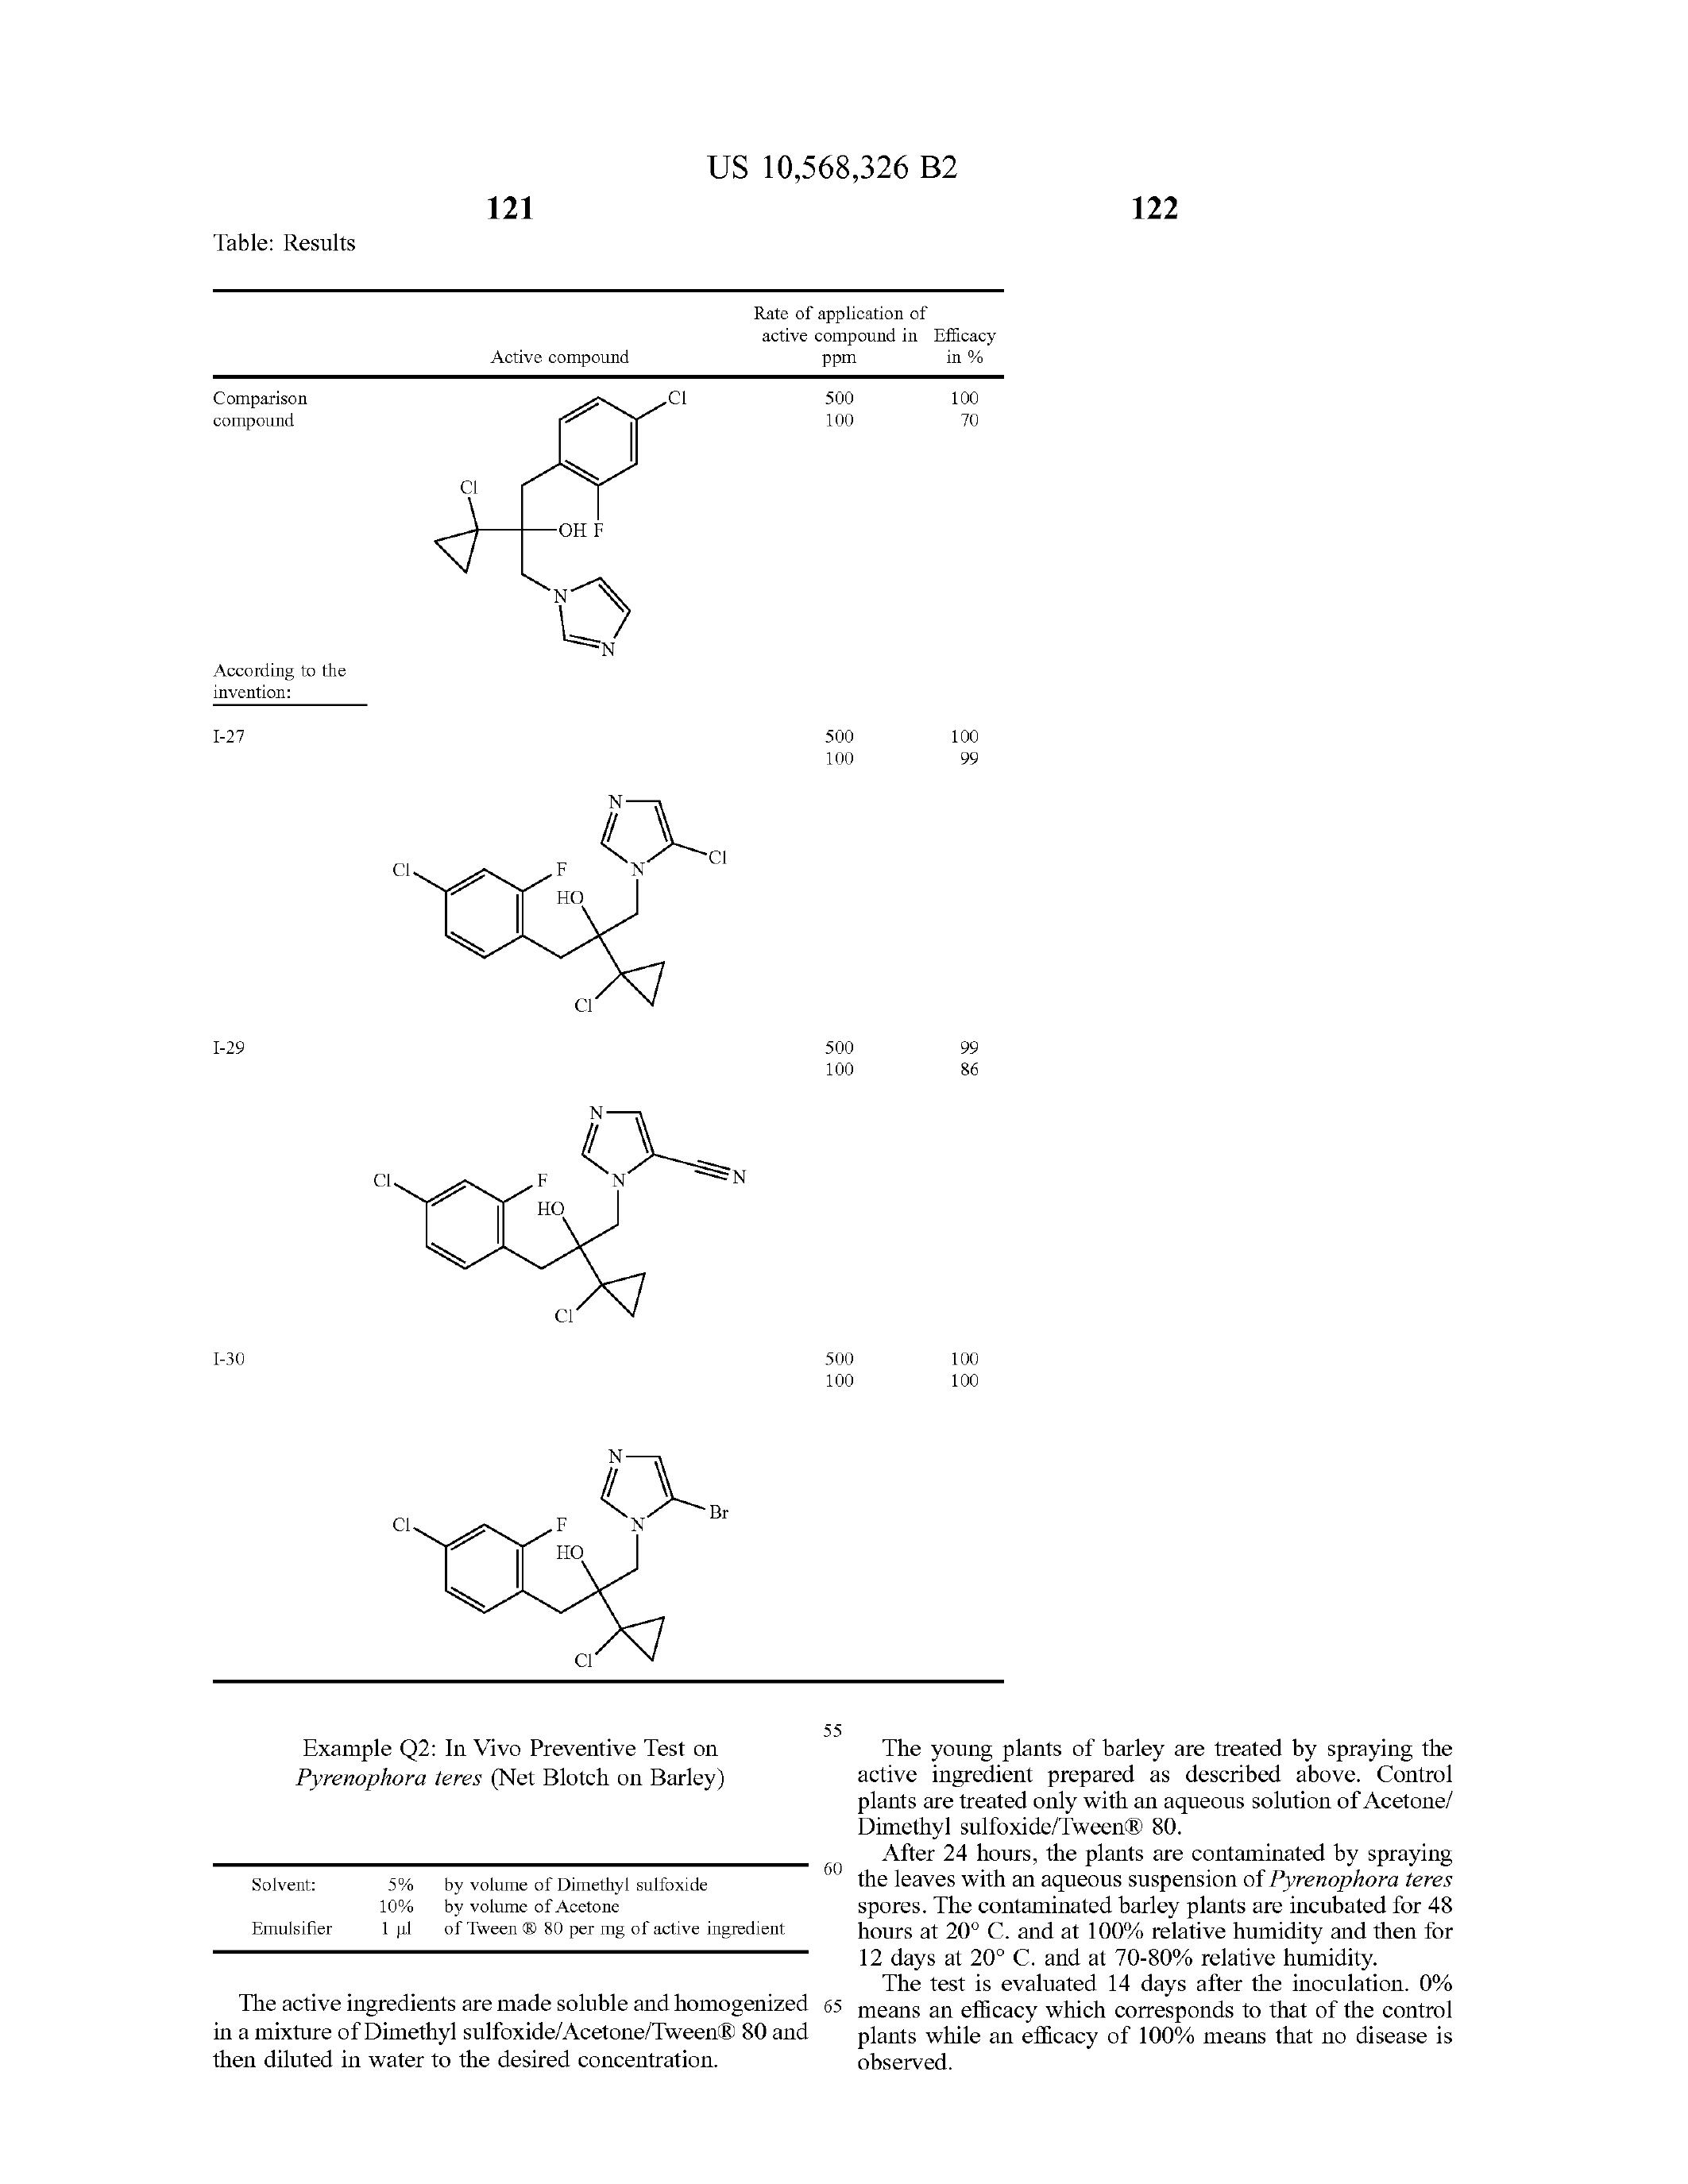relevant-structures: (324, 1076, 771, 1376), (387, 780, 739, 1033), (404, 397, 729, 663), (369, 1443, 745, 1666)
